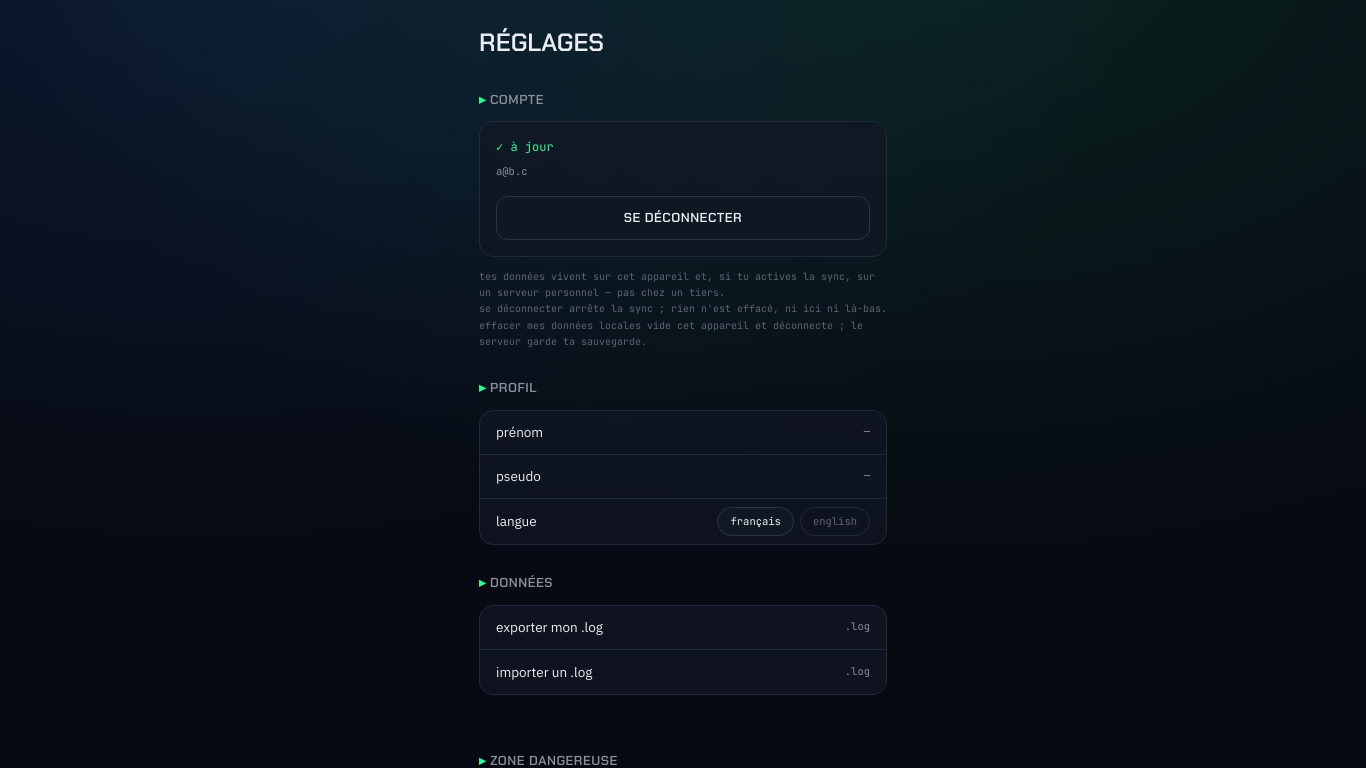
Scenario: rangée pseudo › affiche ce que le serveur a rendu, pas la saisie
The width and height of the screenshot is (1366, 768).
Click the button "pseudo —". click: (518, 476)
box: [480,454,886,498]
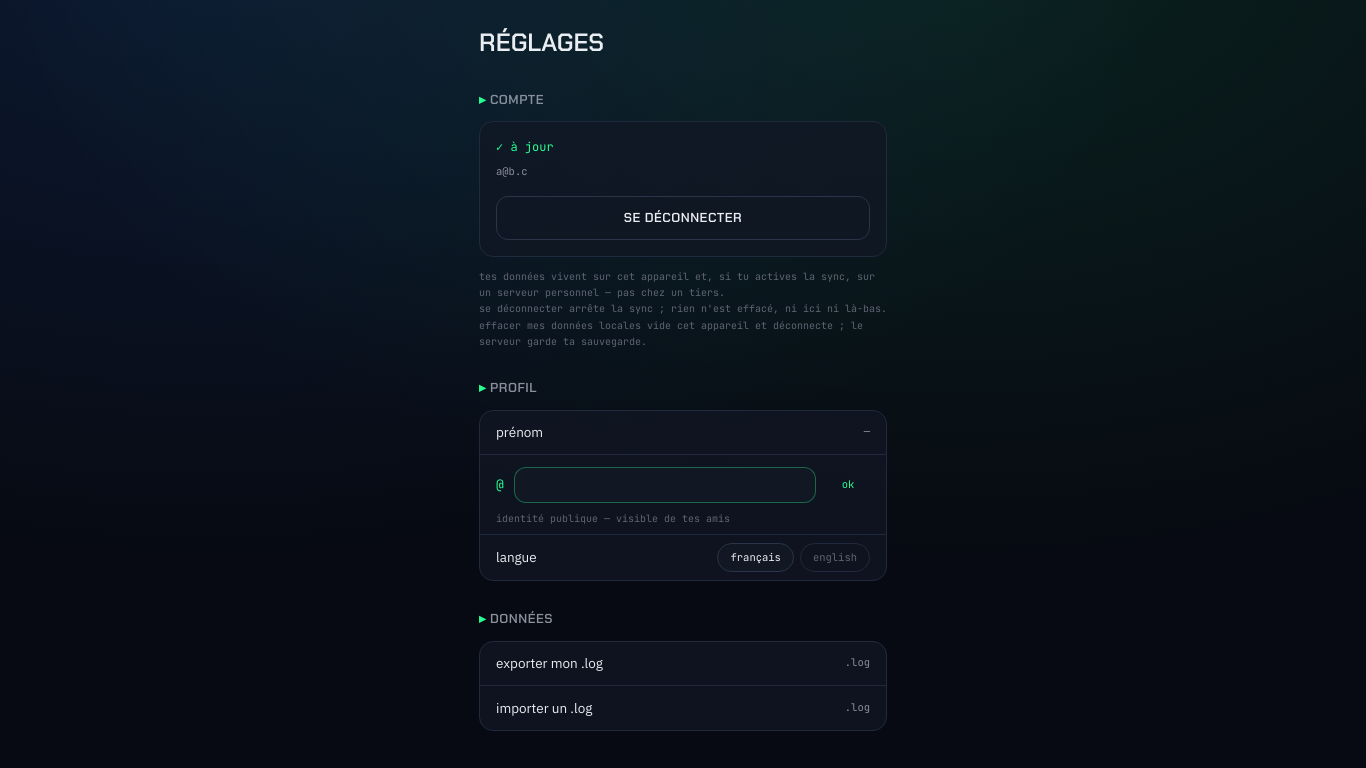
Type "nyx_42" into the field named "pseudo". click: (665, 484)
box: [514,466,816,502]
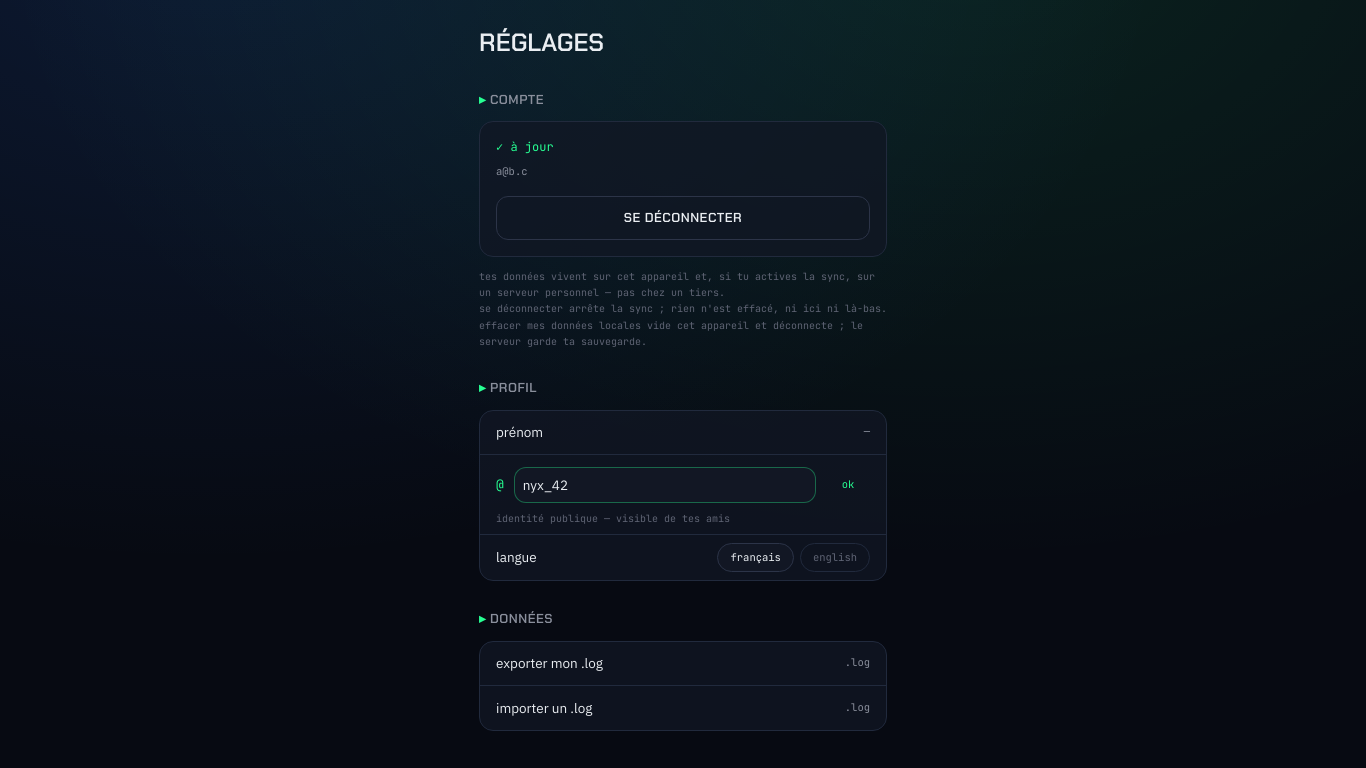
Submit the form named "pseudo", box [480,454,886,534]
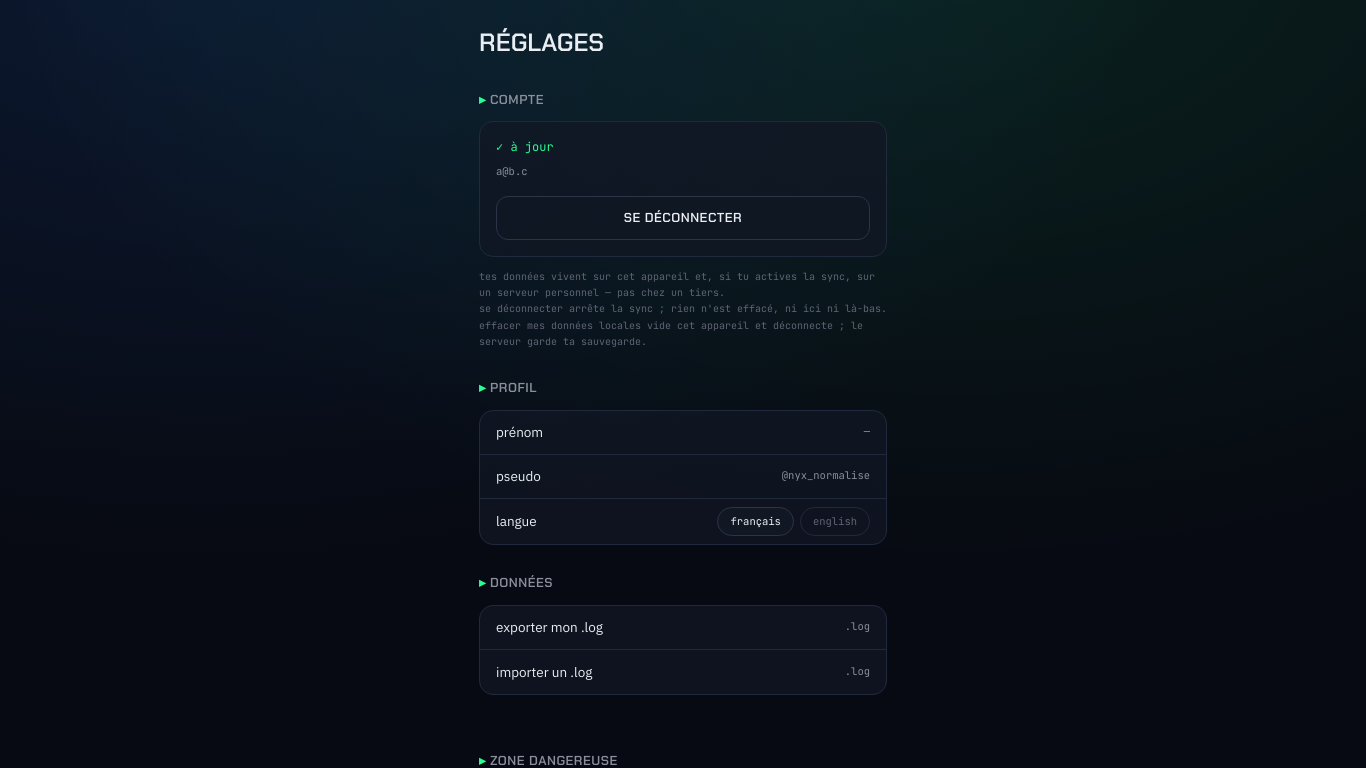
Expected: the text "@nyx_normalise" is shown, [782,468,870,484]
